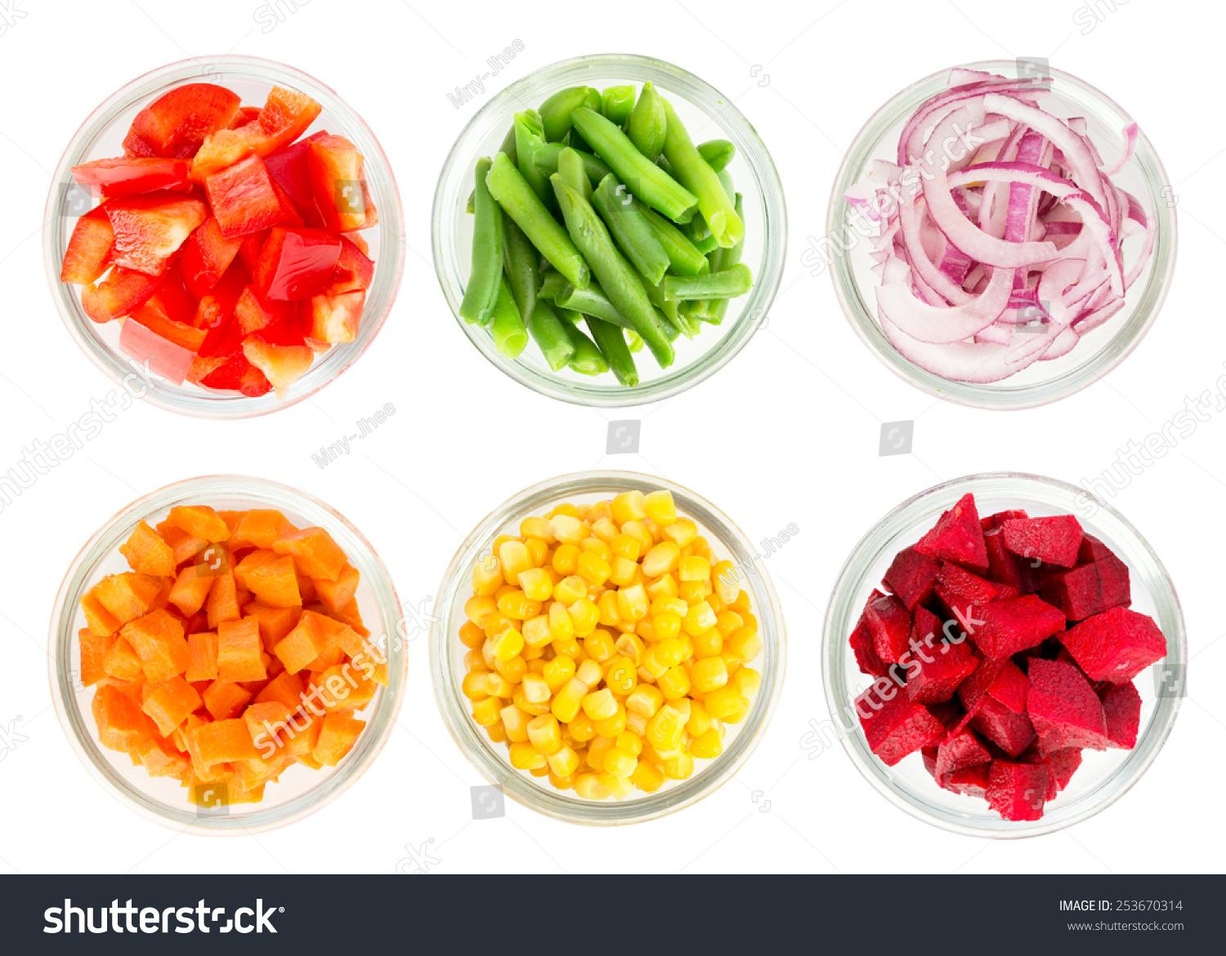beans: (461, 43, 780, 398)
beetroot: (848, 464, 1190, 813)
carrot: (46, 471, 419, 841)
corn: (450, 471, 780, 819)
onion: (816, 74, 1171, 358)
tomato: (75, 84, 423, 416)
